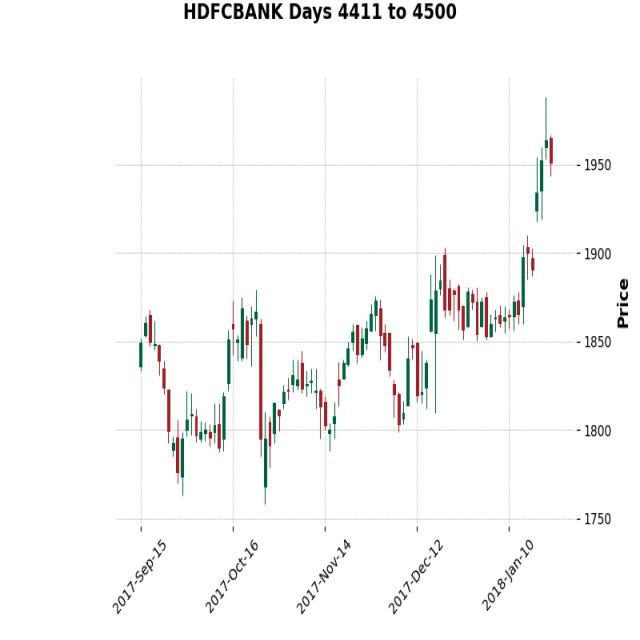Triple Bottom Reversal: (141, 314, 420, 502)
